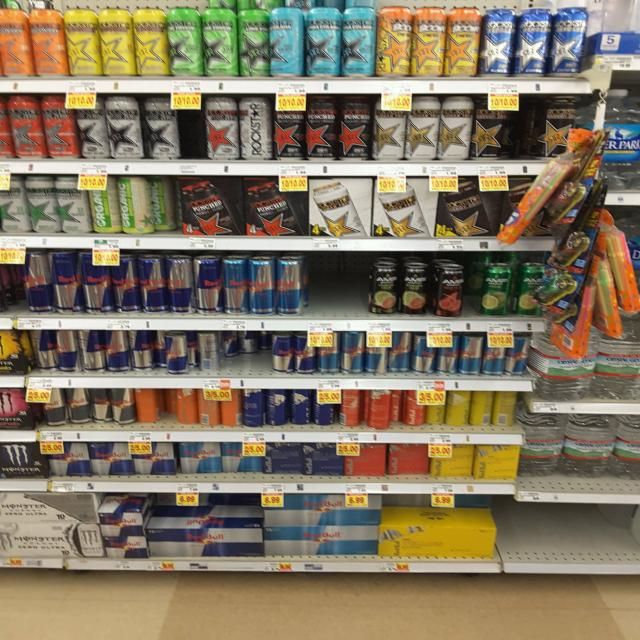unorganised: (523, 411, 639, 492), (26, 331, 165, 373), (269, 442, 385, 481), (51, 443, 179, 478), (471, 261, 545, 314), (175, 442, 263, 480), (193, 332, 271, 369), (141, 95, 181, 163), (269, 2, 304, 77), (468, 391, 520, 428), (20, 252, 52, 312), (164, 252, 194, 315), (41, 387, 91, 424), (385, 443, 433, 480), (90, 389, 134, 427), (149, 176, 179, 231), (200, 390, 243, 428), (433, 445, 474, 482), (389, 389, 425, 430), (136, 388, 176, 424), (174, 389, 199, 428), (337, 392, 362, 428)
